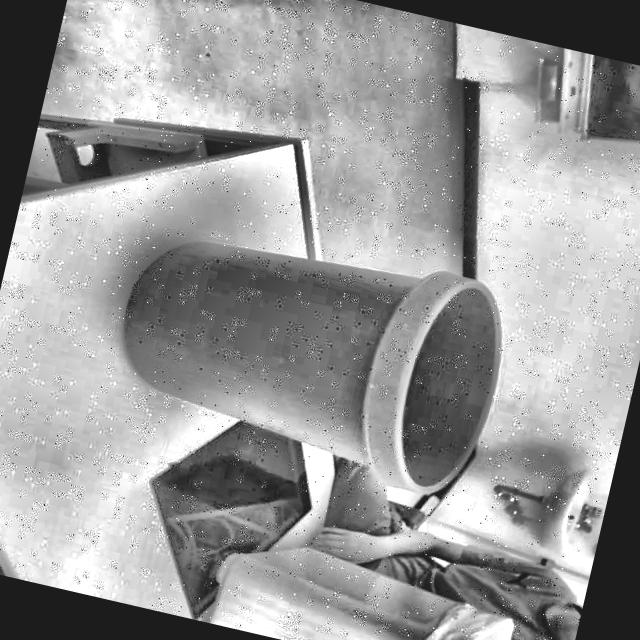Dustbin: (52, 138, 586, 524)
